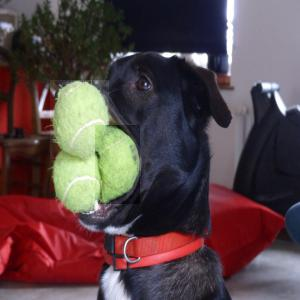TennisBall: (51, 81, 111, 161), (96, 127, 142, 207), (51, 150, 103, 214)
